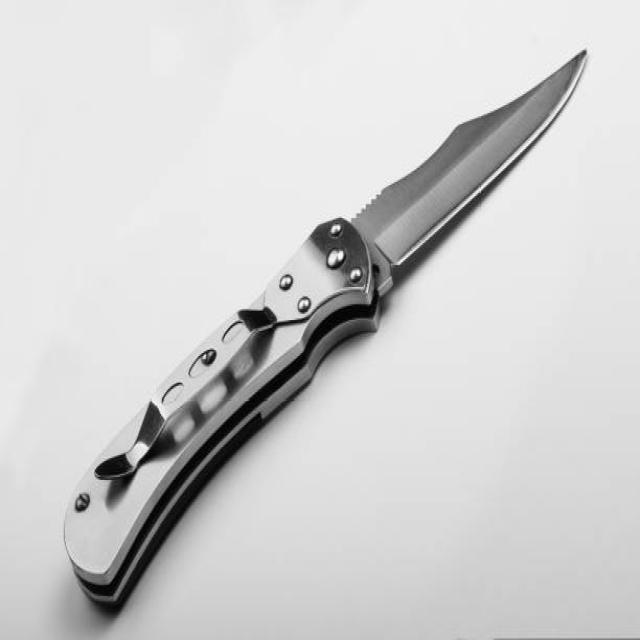knife: (62, 40, 593, 624)
